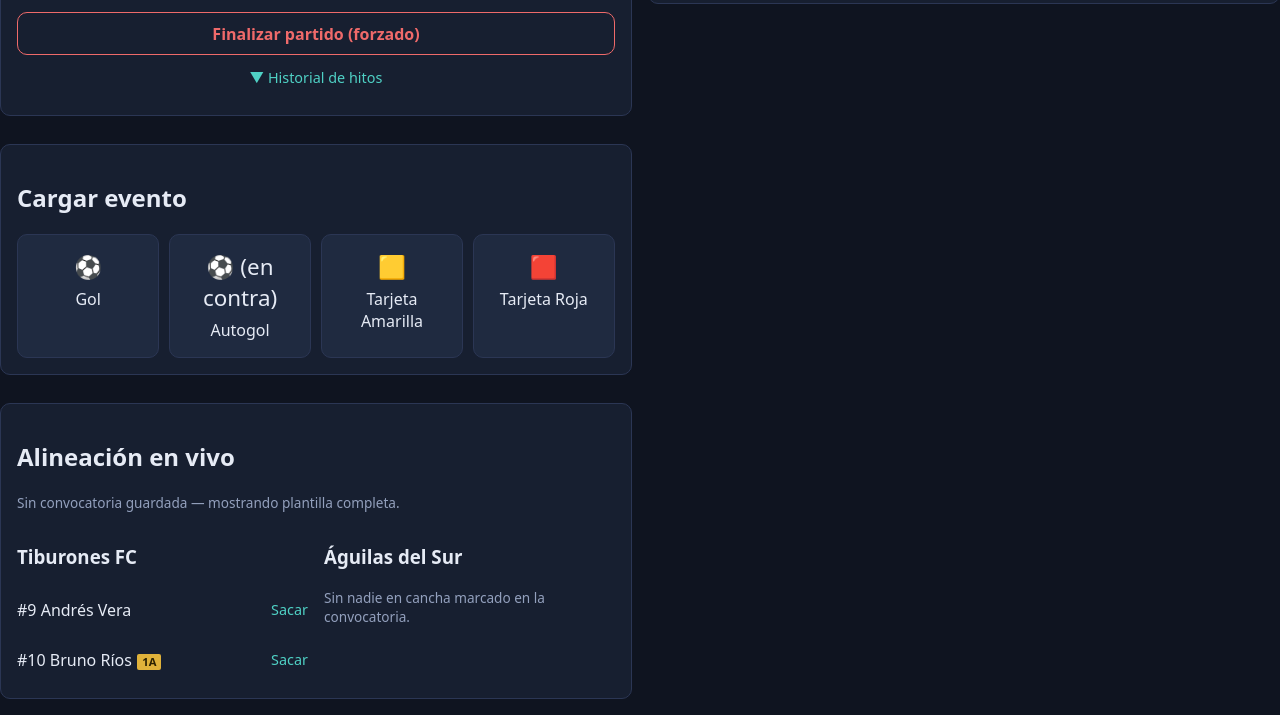
Test: MesaPanel — badge de estado de tarjetas (exp.1) › un candidato a 'Entra' con amarilla registrada muestra su badge en el tap-button de ModalSustitucion
(page scrolled)
Click the button "Sacar" in the row of "#9": point(290, 610) x1=271 y1=588 x2=308 y2=632
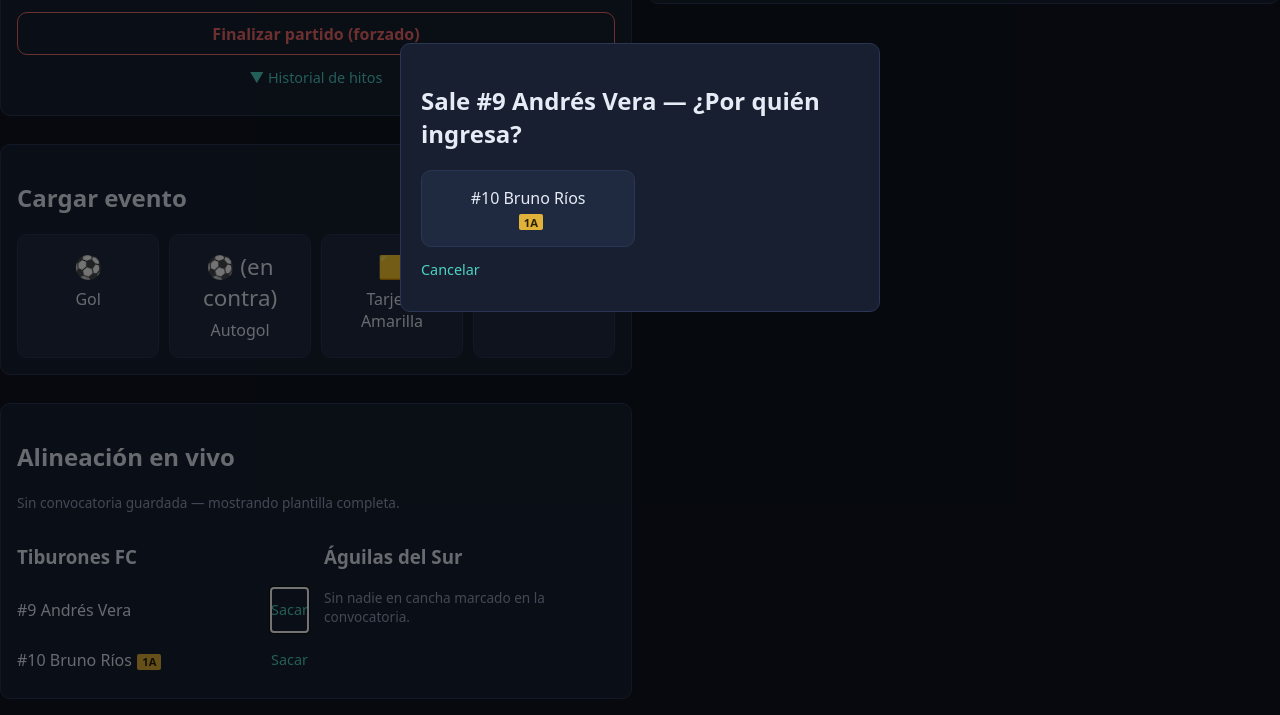
Expected: the text "1A" is shown, x1=519 y1=214 x2=543 y2=230
